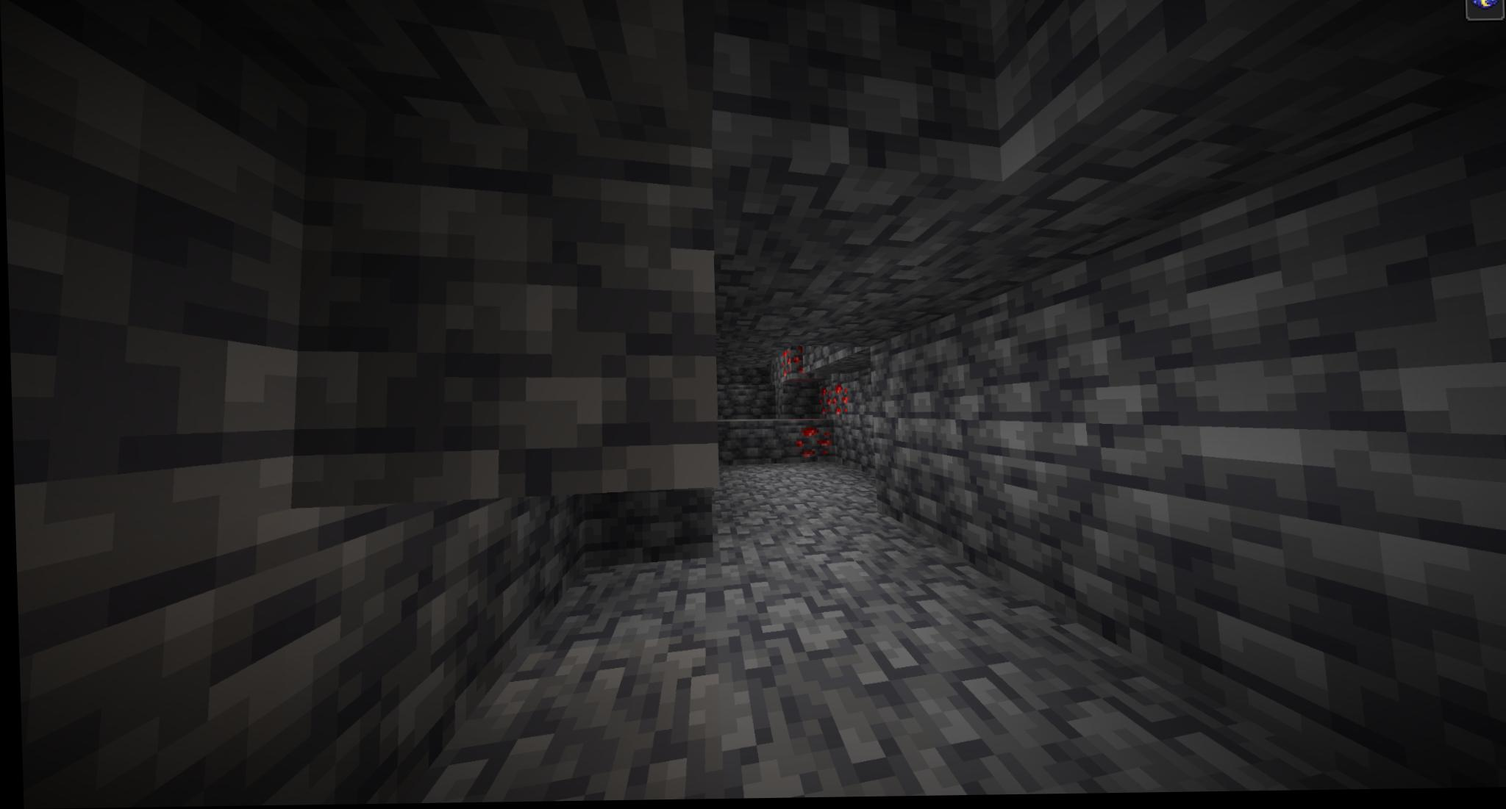redstone ore: (789, 421, 834, 466), (774, 343, 811, 387), (812, 383, 851, 419)
